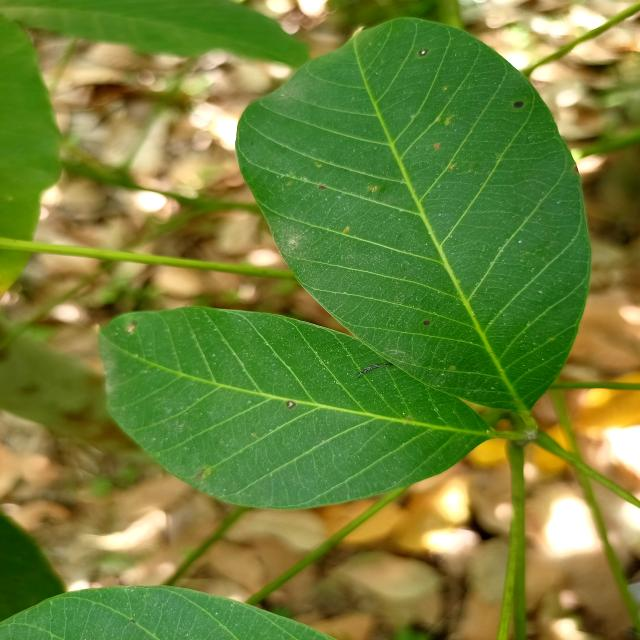Colletotrichum: (286, 400, 296, 410), (419, 49, 430, 57), (513, 101, 524, 109), (424, 320, 431, 326)
